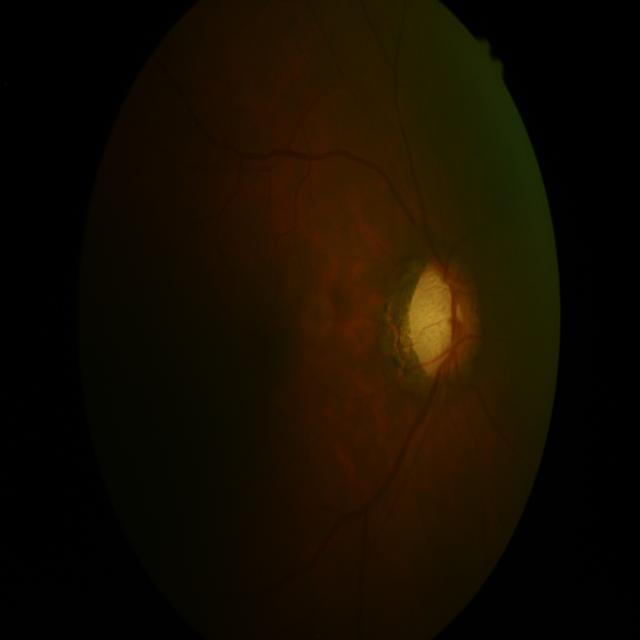cup: (412, 268, 464, 366)
disk: (408, 252, 486, 382)
